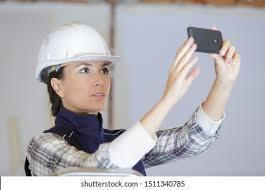helmet: (34, 23, 121, 80)
